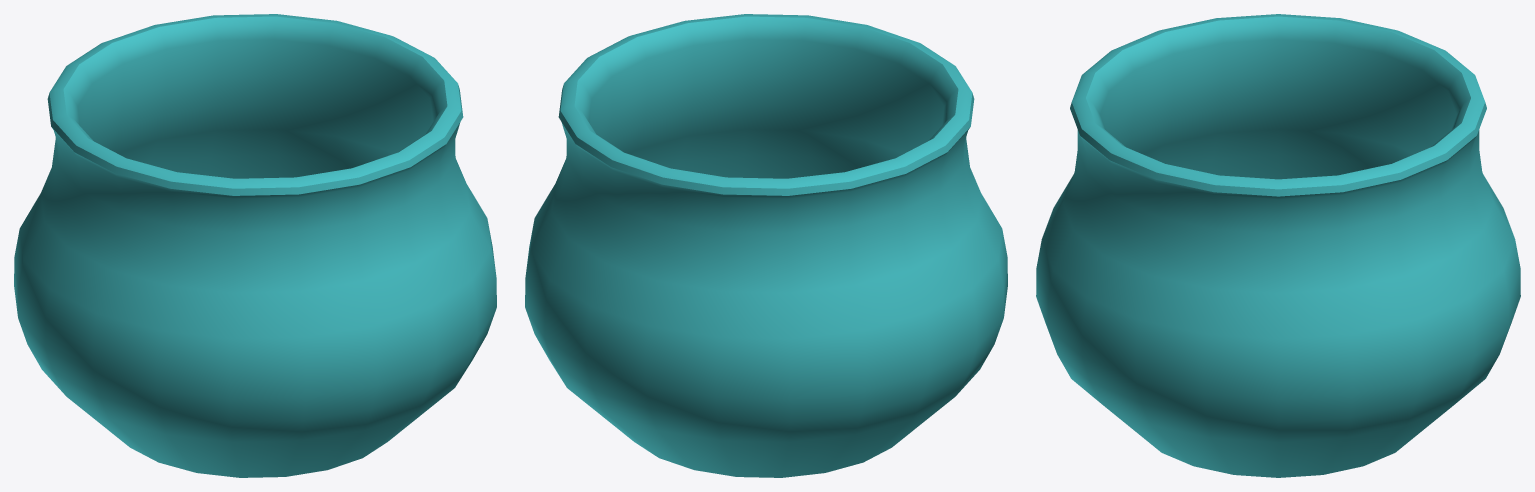
The model's file is vaseblue.fbx.
3 renders of one model, left to right at view 1: azimuth 30°, elevation 25°; view 2: azimuth 150°, elevation 25°; view 3: azimuth 270°, elevation 25°, orthographic.
Parts seen in each view (by area): view 1: Vase_Geometry; view 2: Vase_Geometry; view 3: Vase_Geometry.
Part boxes in pixels (x1=…): Vase_Geometry: x1=14, y1=14, x2=496, y2=477; Vase_Geometry: x1=525, y1=14, x2=1007, y2=477; Vase_Geometry: x1=1036, y1=14, x2=1520, y2=477.
Bounding box in the file's own units: 35.41 × 26.31 × 35.41.
